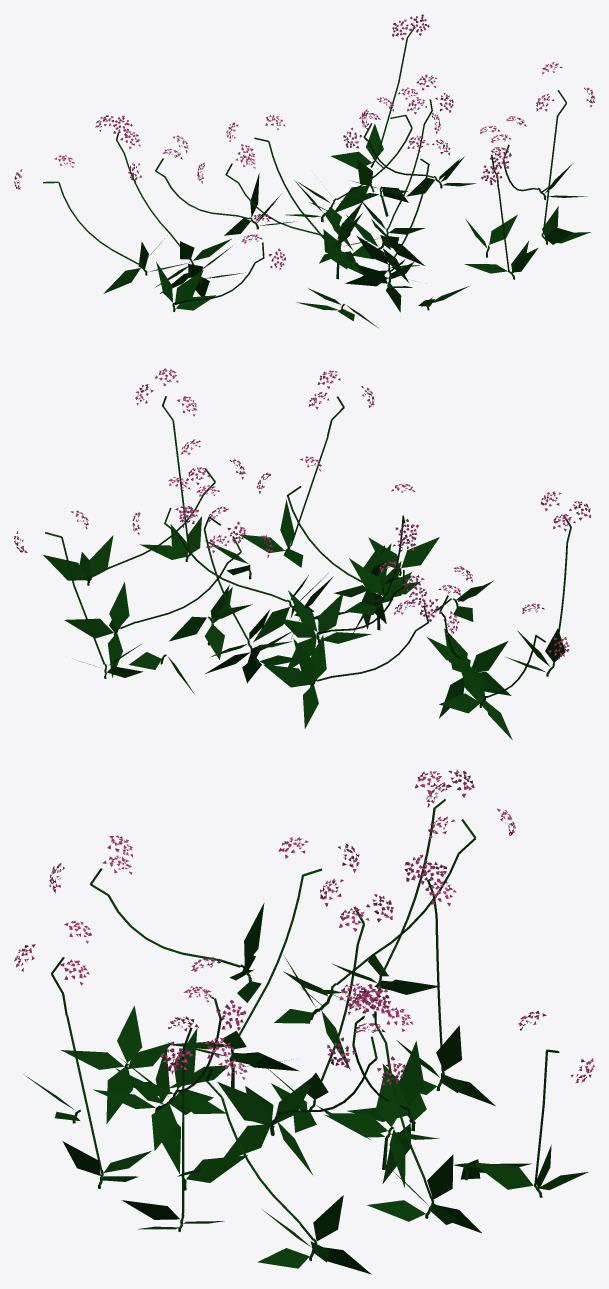
3 renders of one model, top to bottom at view 1: azimuth 30°, elevation 25°; view 2: azimuth 150°, elevation 25°; view 3: azimuth 270°, elevation 25°, orthographic. The views are drawn at different scales.
Parts seen in each view (by area): view 1: leaves, flowers, stems2, stems1; view 2: leaves, flowers, stems2, stems1; view 3: leaves, flowers, stems2, stems1.
Part boxes in pixels (x1,y1,x2,y2): leaves: [103, 123, 590, 328]; flowers: [14, 14, 594, 269]; stems2: [43, 27, 566, 304]; stems1: [139, 157, 547, 313]; leaves: [43, 499, 565, 739]; flowers: [14, 368, 591, 659]; stems2: [45, 396, 571, 697]; stems1: [87, 545, 554, 707]; leaves: [23, 903, 588, 1274]; flowers: [14, 769, 594, 1085]; stems2: [51, 799, 559, 1240]; stems1: [72, 964, 542, 1260].
Size of the model in its own units: 70.21 by 26.82 by 47.19.
